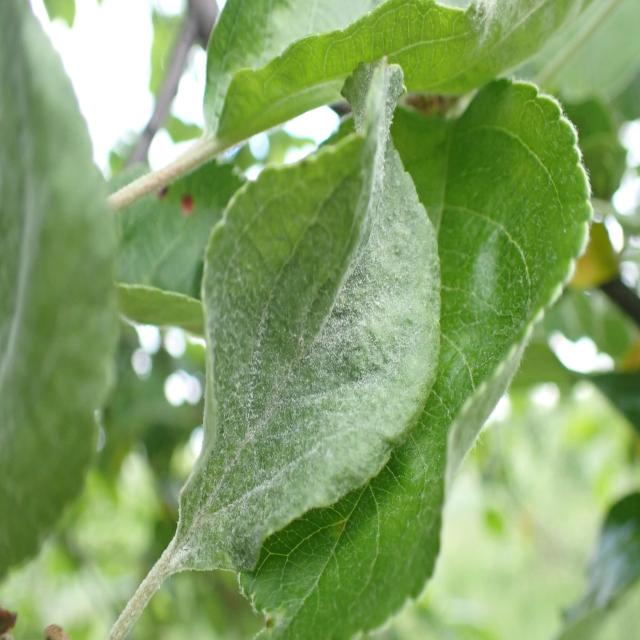Powdery_mildew: (161, 45, 451, 580)
